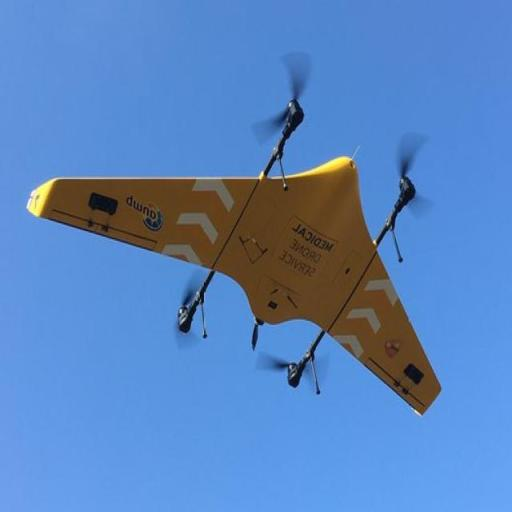uav: (26, 94, 444, 414)
